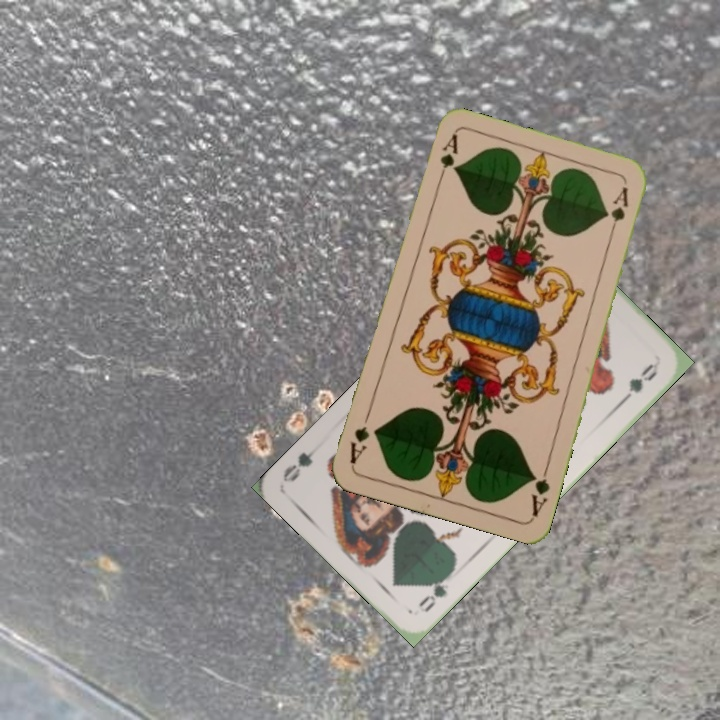GA: (432, 131, 460, 189), (527, 460, 553, 519)
GO: (414, 567, 456, 615)
